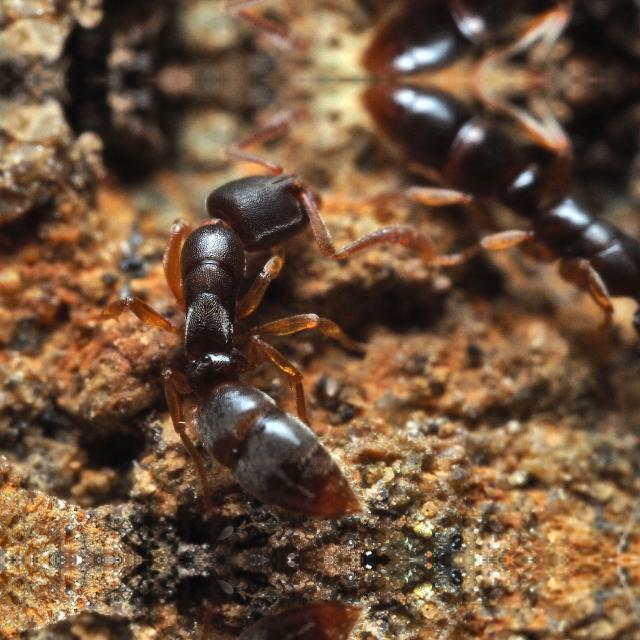Ponera: (100, 143, 416, 523), (327, 80, 639, 346), (327, 0, 639, 80)
